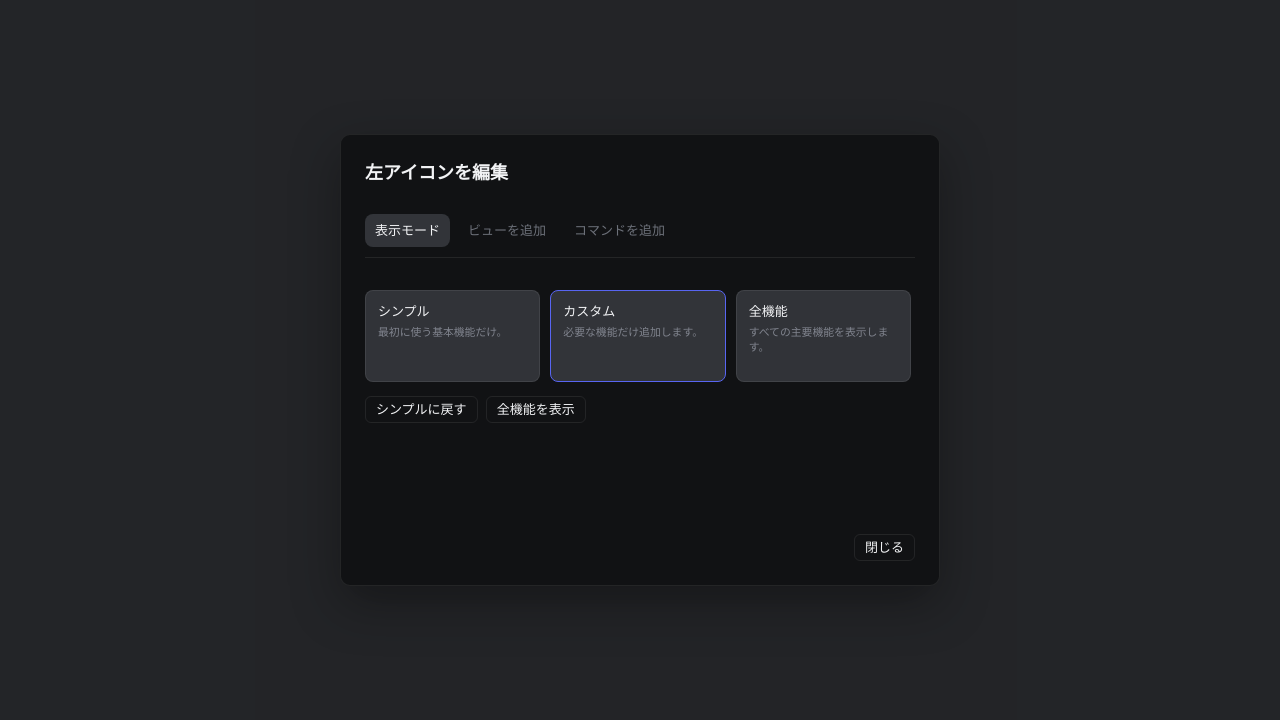
Scenario: RailCustomizeDialog › shows command options on commands tab
Click the button "コマンドを追加" at (620, 231), box [564,214,675,247]
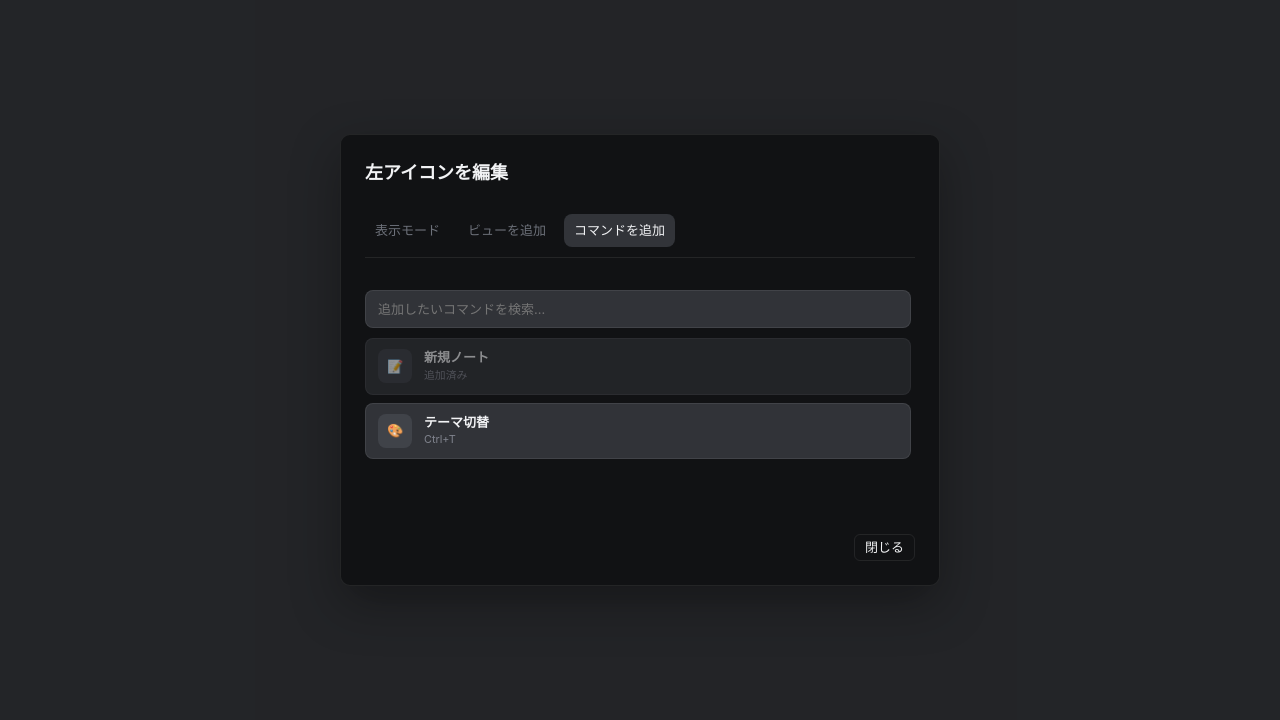
Result: the text "新規ノート" is shown at [424,349,489,366]
Result: the text "テーマ切替" is shown at [424,414,489,430]
